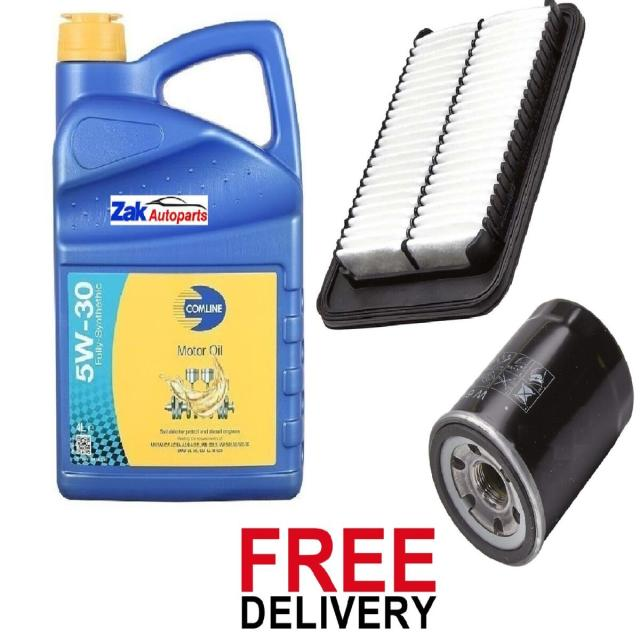air_filter: (319, 4, 584, 323)
motor_oil: (53, 11, 306, 504)
oil_filter: (429, 298, 636, 572)
